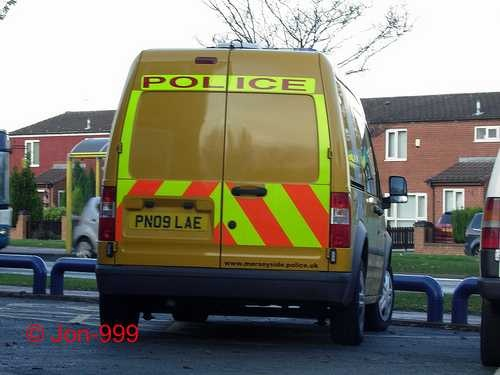Police Van: (98, 27, 400, 339)
